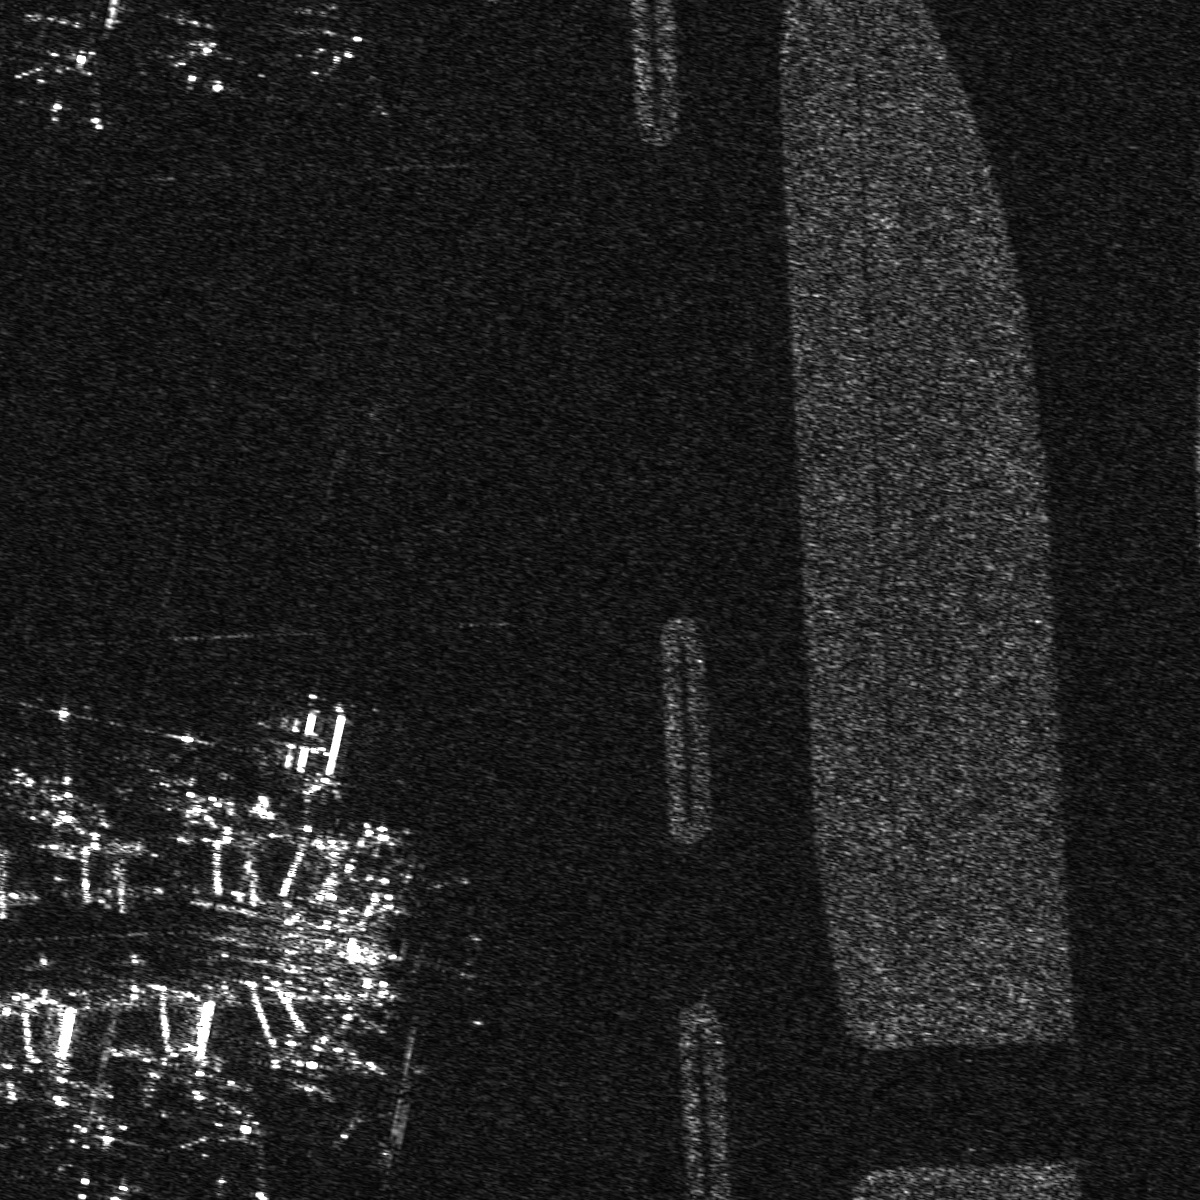A320/321: (1, 691, 96, 805), (127, 716, 231, 805), (46, 1116, 152, 1199), (320, 1092, 409, 1175)
Boeing737: (175, 1107, 290, 1199), (170, 16, 246, 95), (296, 9, 371, 73)
other: (13, 36, 147, 131)
